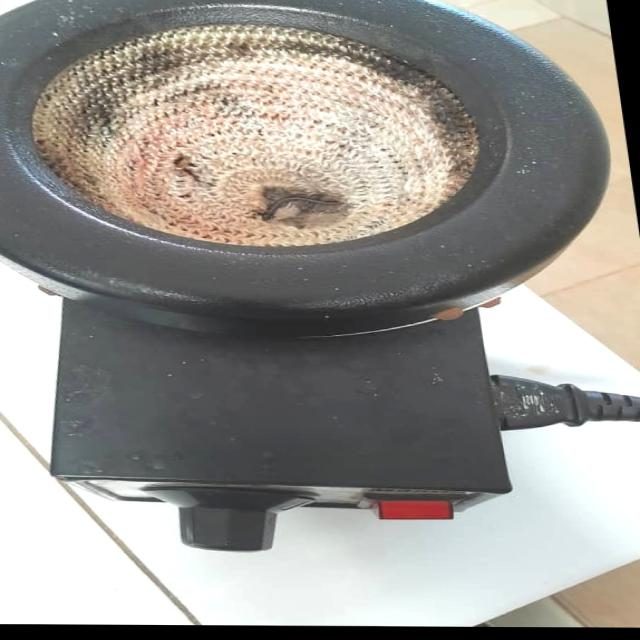Heating Source: (0, 0, 640, 551)
